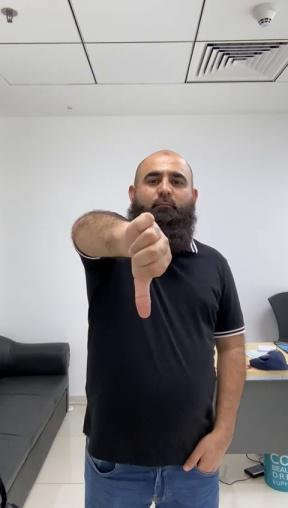thumbs-down: (118, 211, 176, 320)
